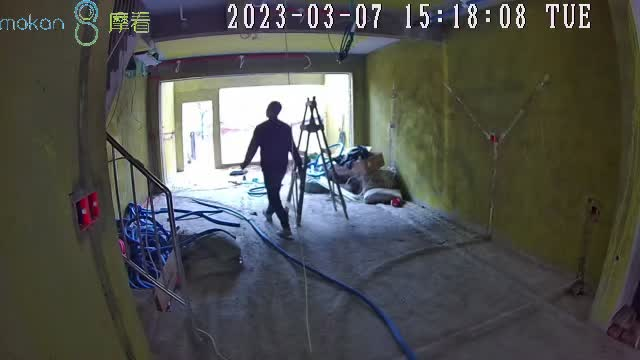people: (239, 100, 303, 239)
window: (220, 88, 324, 163)
